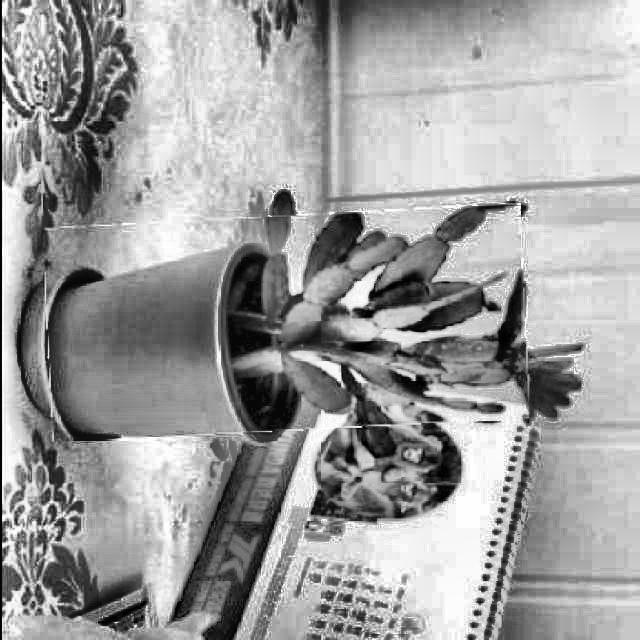plants: (43, 210, 525, 436)
